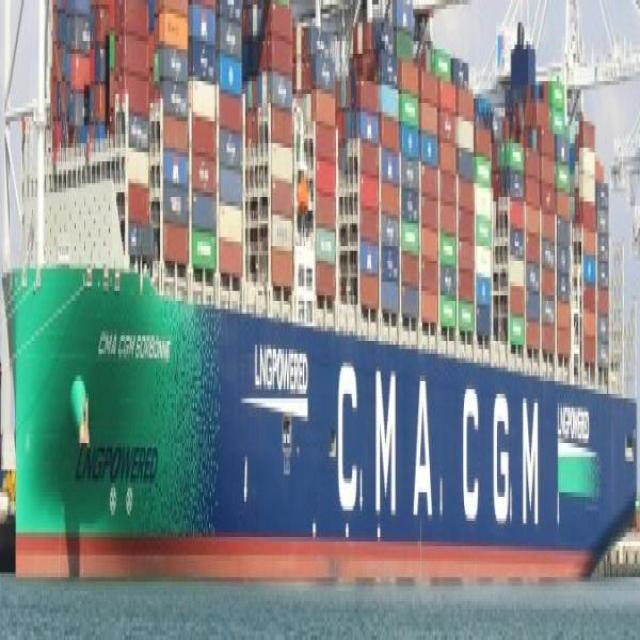Container Ship: (2, 1, 635, 581)
